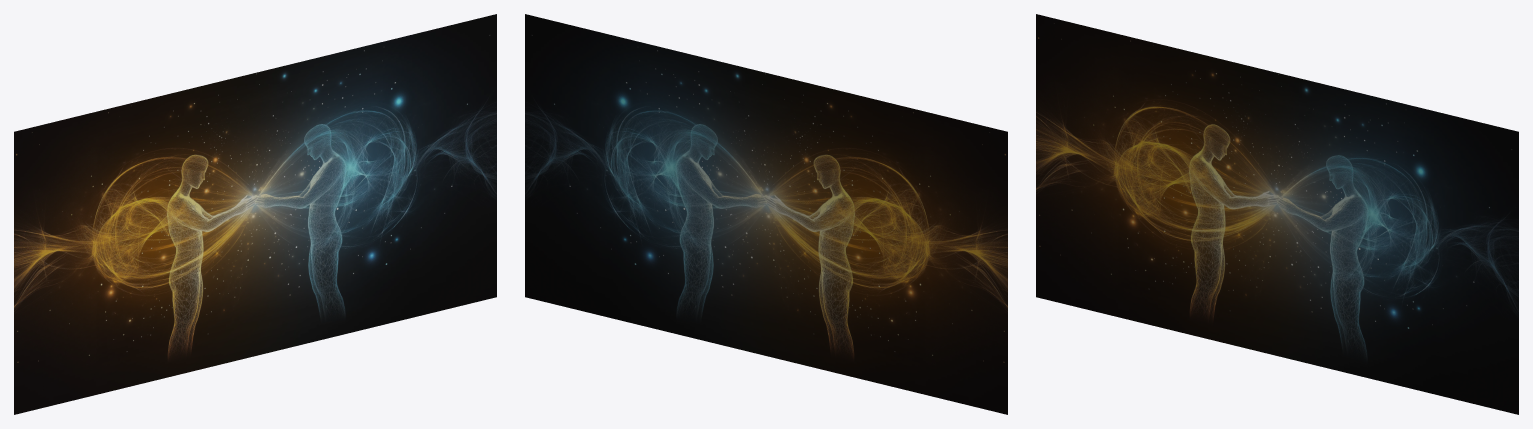
File: herobg.glb
3 renders of one model, left to right at view 1: azimuth 30°, elevation 25°; view 2: azimuth 150°, elevation 25°; view 3: azimuth 330°, elevation 25°, orthographic.
Parts seen in each view (by area): view 1: hero-bg; view 2: hero-bg; view 3: hero-bg.
Part boxes in pixels (x1,y1,x2,y2): hero-bg: [14, 14, 496, 414]; hero-bg: [525, 14, 1007, 414]; hero-bg: [1036, 14, 1518, 414].
Bounding box in the file's own units: 1.78 × 1 × 2.22e-16.
1 material, 1 textured.
